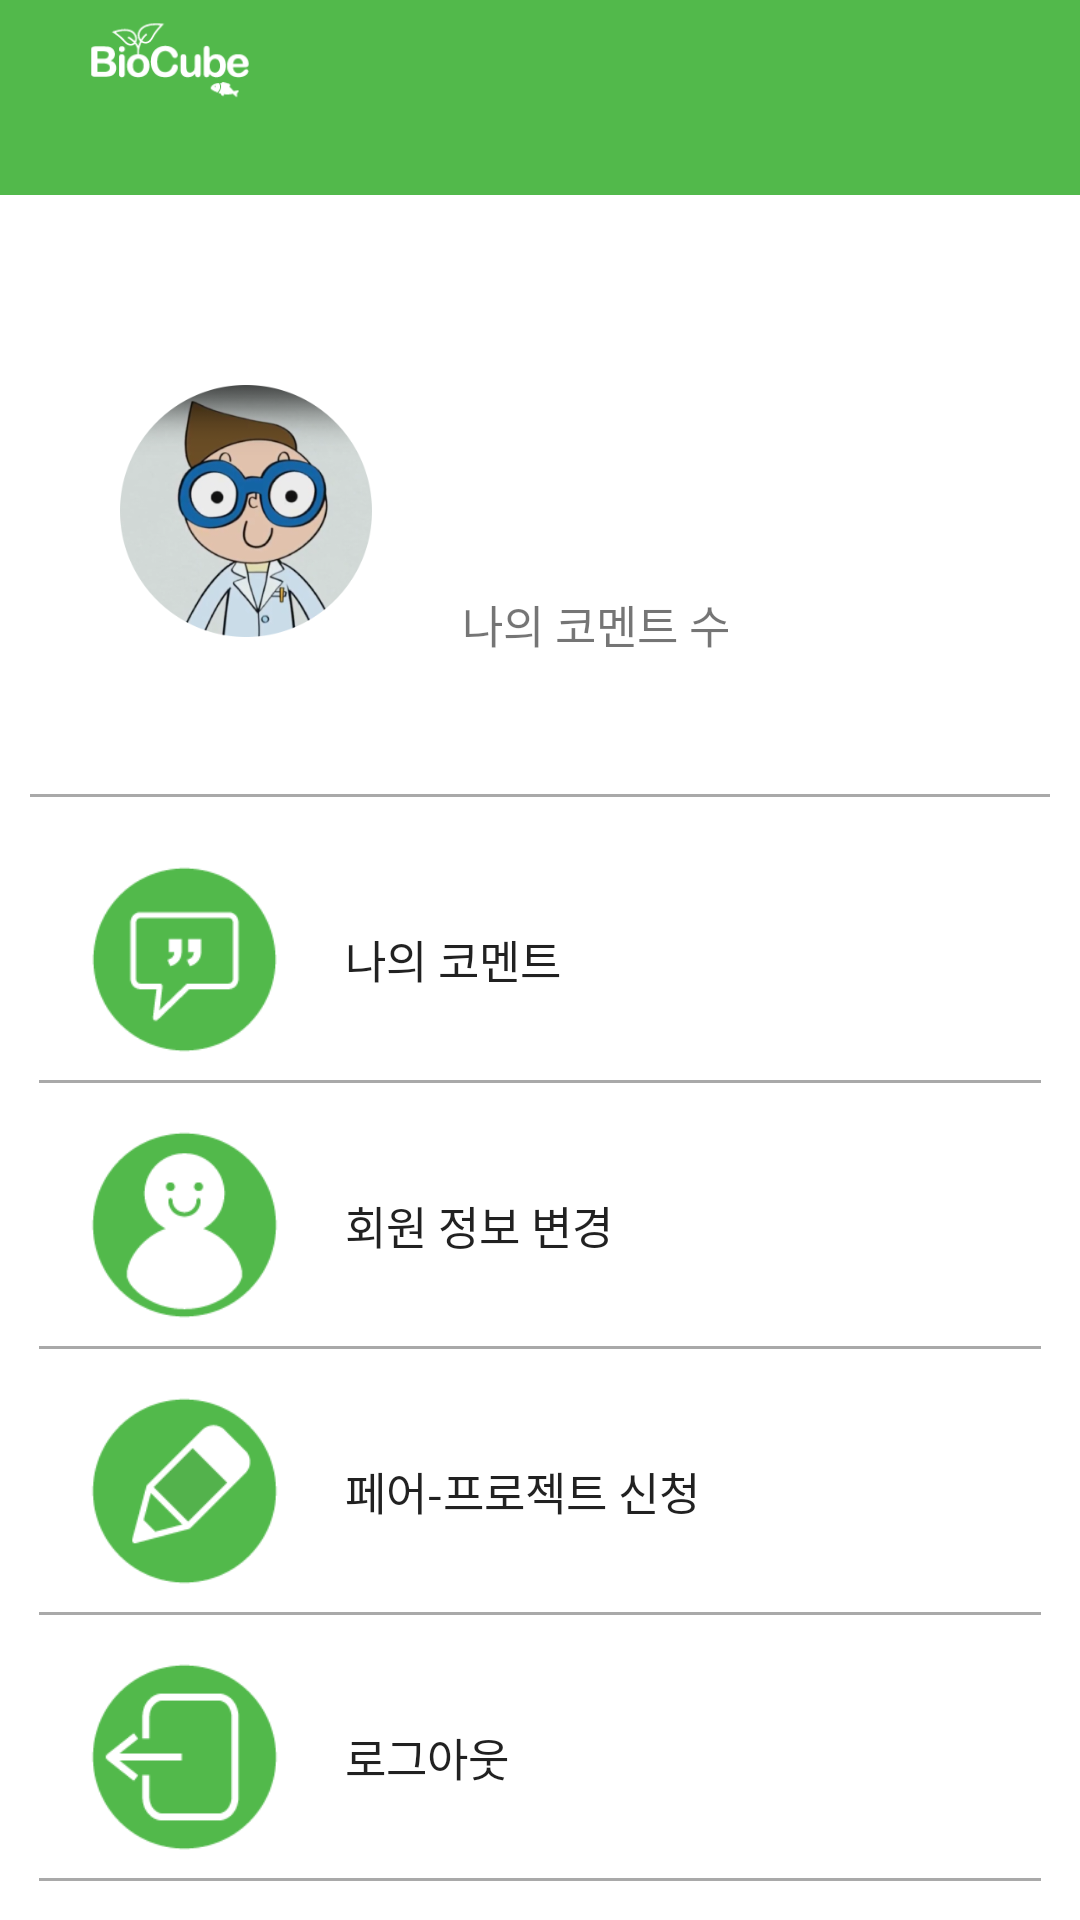

Point at icon controls on the screen. Image size 1080px x 1920px, points as [x,y].
myinfo: [184,1225]
reply: [184,959]
tutor circle: [246,511]
